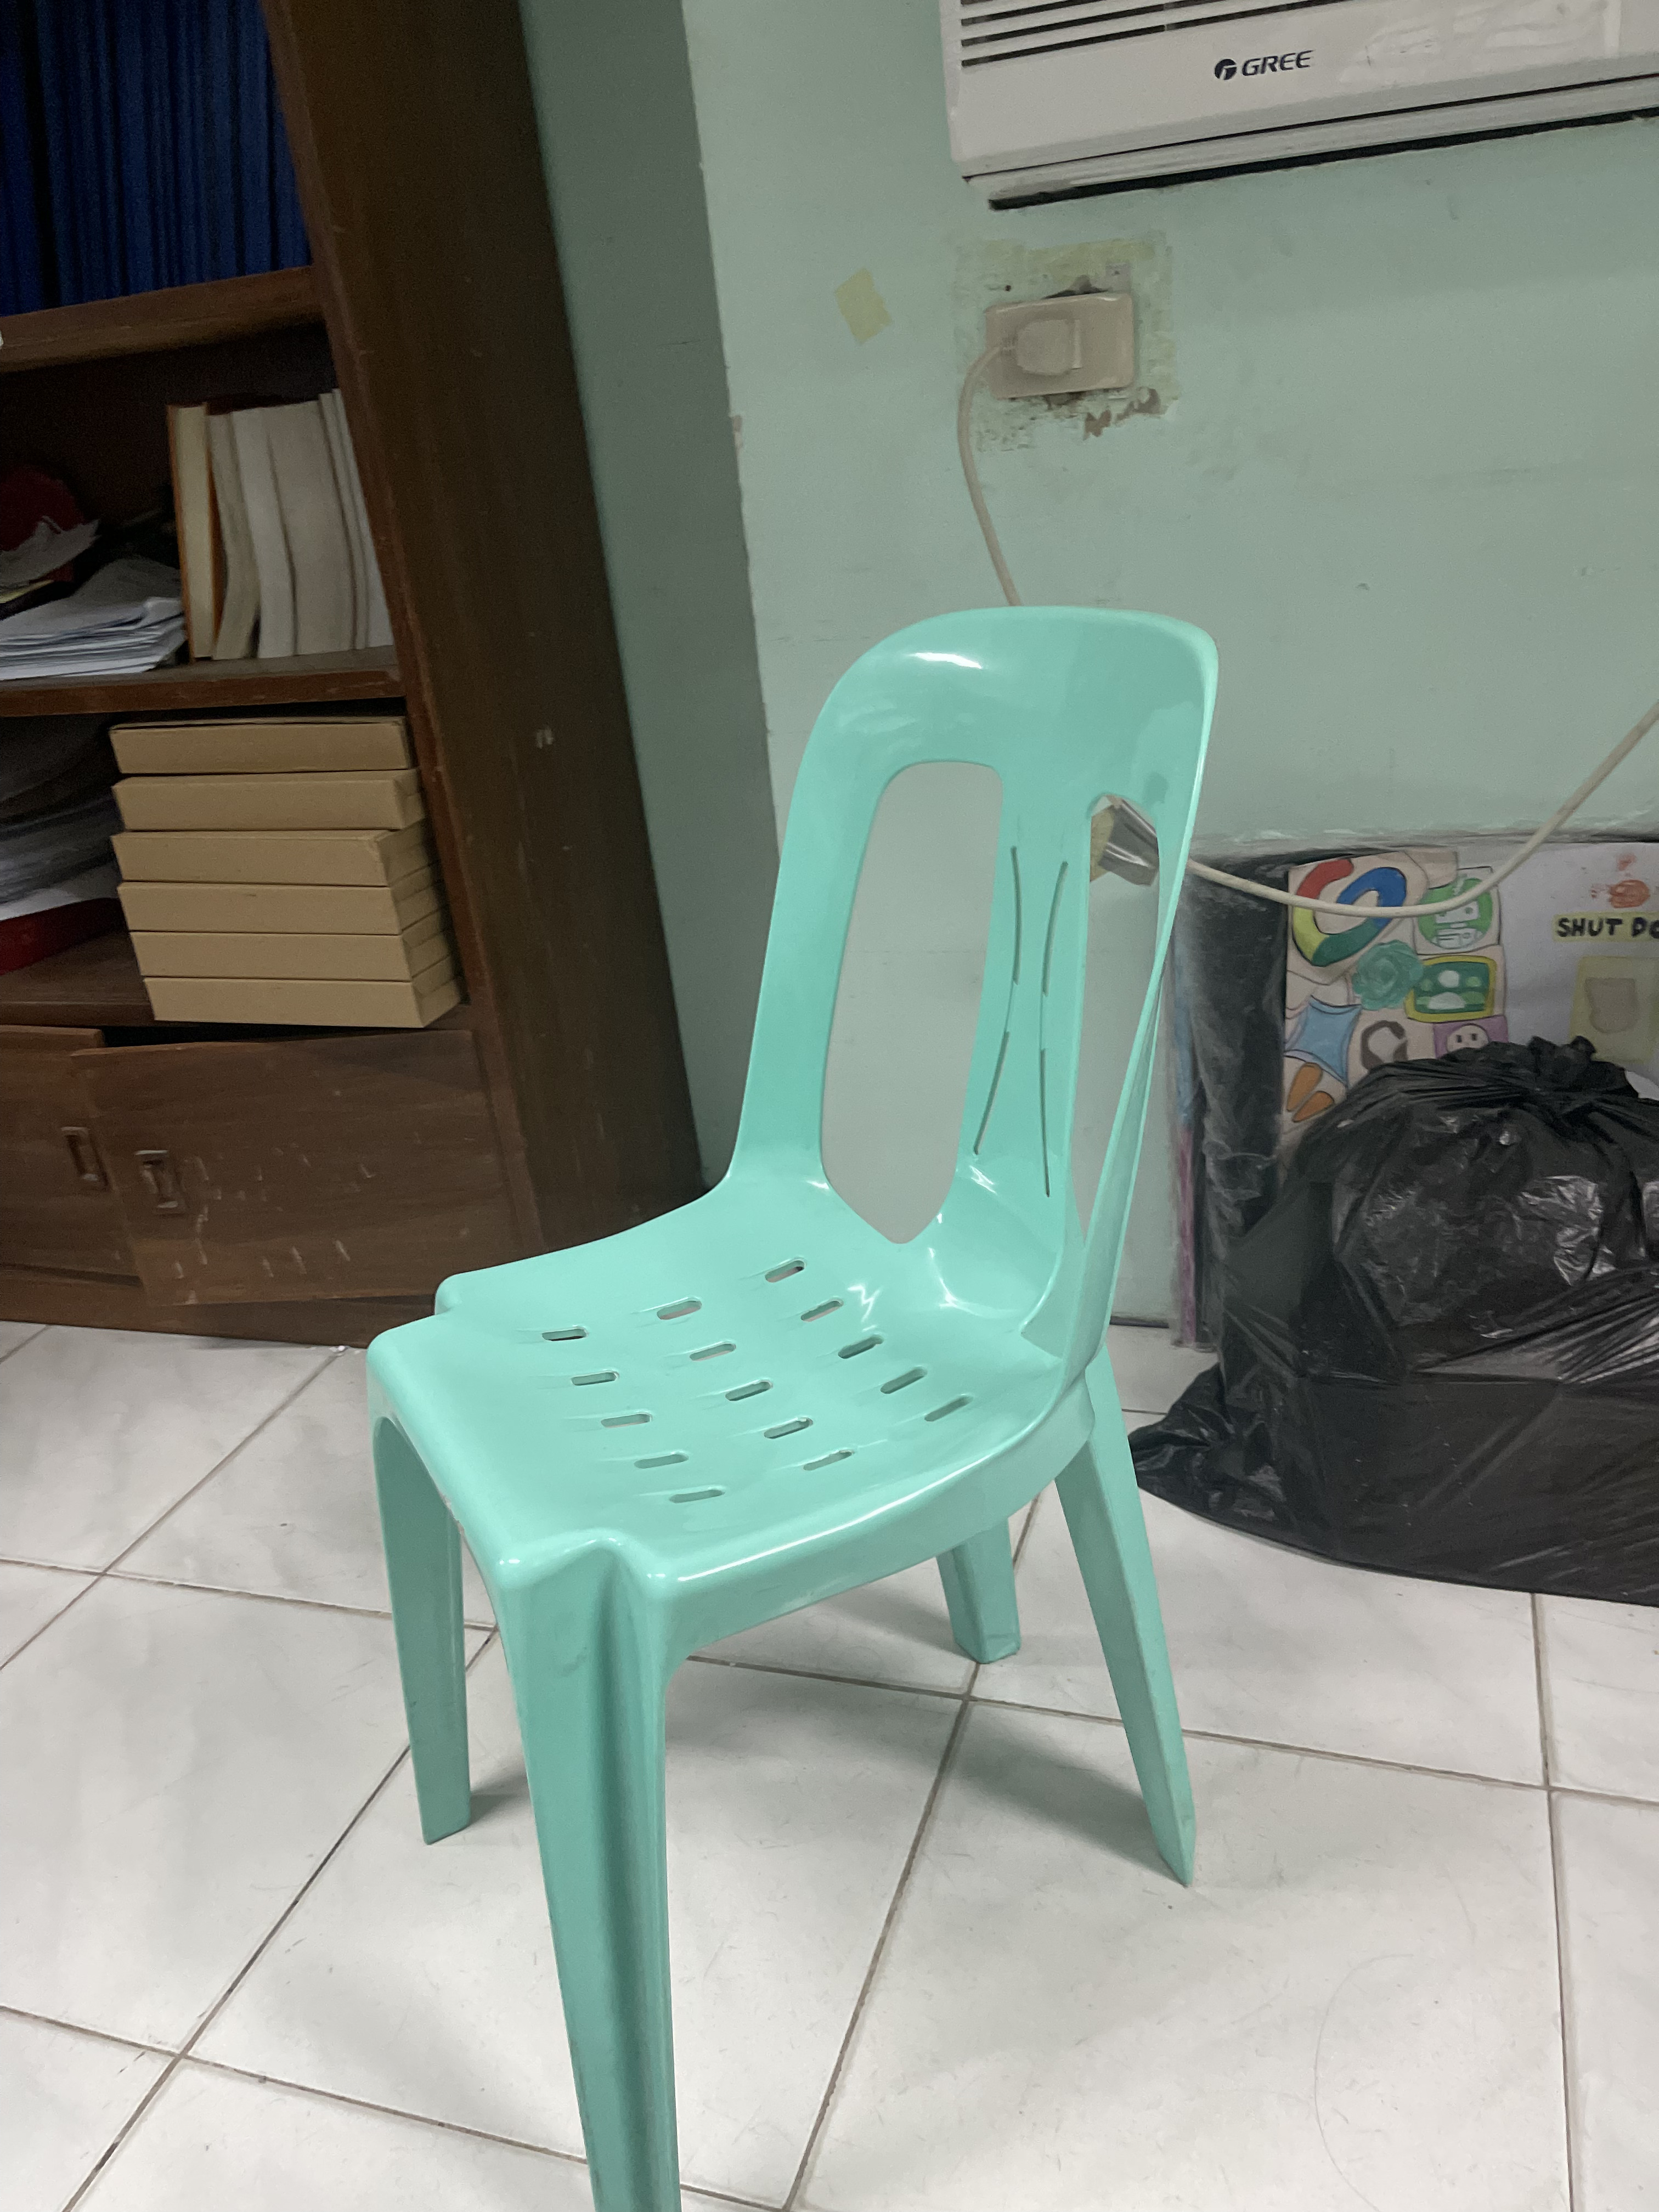chair2: (350, 601, 1241, 2212)
